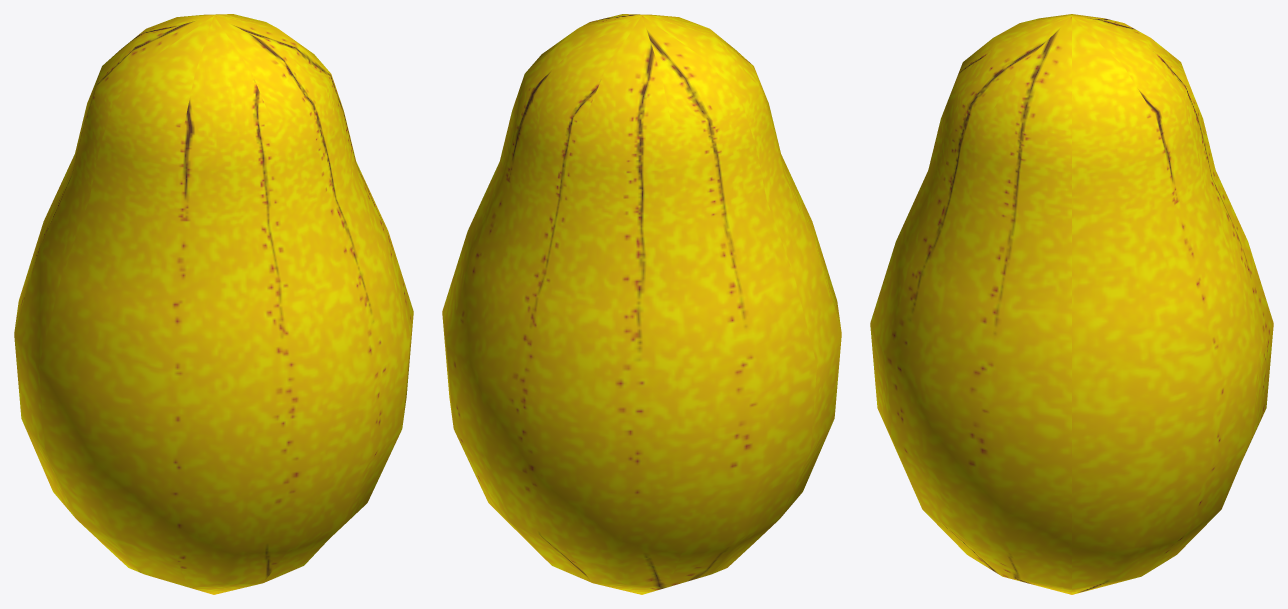
Rendered from papaya.FBX.
3 views of the same model, side by side, from view 1: azimuth 30°, elevation 25°; view 2: azimuth 150°, elevation 25°; view 3: azimuth 270°, elevation 25° (orthographic).
Parts seen in each view (by area): view 1: Papaya; view 2: Papaya; view 3: Papaya.
Part boxes in pixels (left/top/right/bottom): Papaya: left=14, top=14, right=413, bottom=594; Papaya: left=442, top=14, right=841, bottom=594; Papaya: left=870, top=14, right=1273, bottom=594.
Size of the model in its own units: 9.74 by 15.39 by 9.74.
